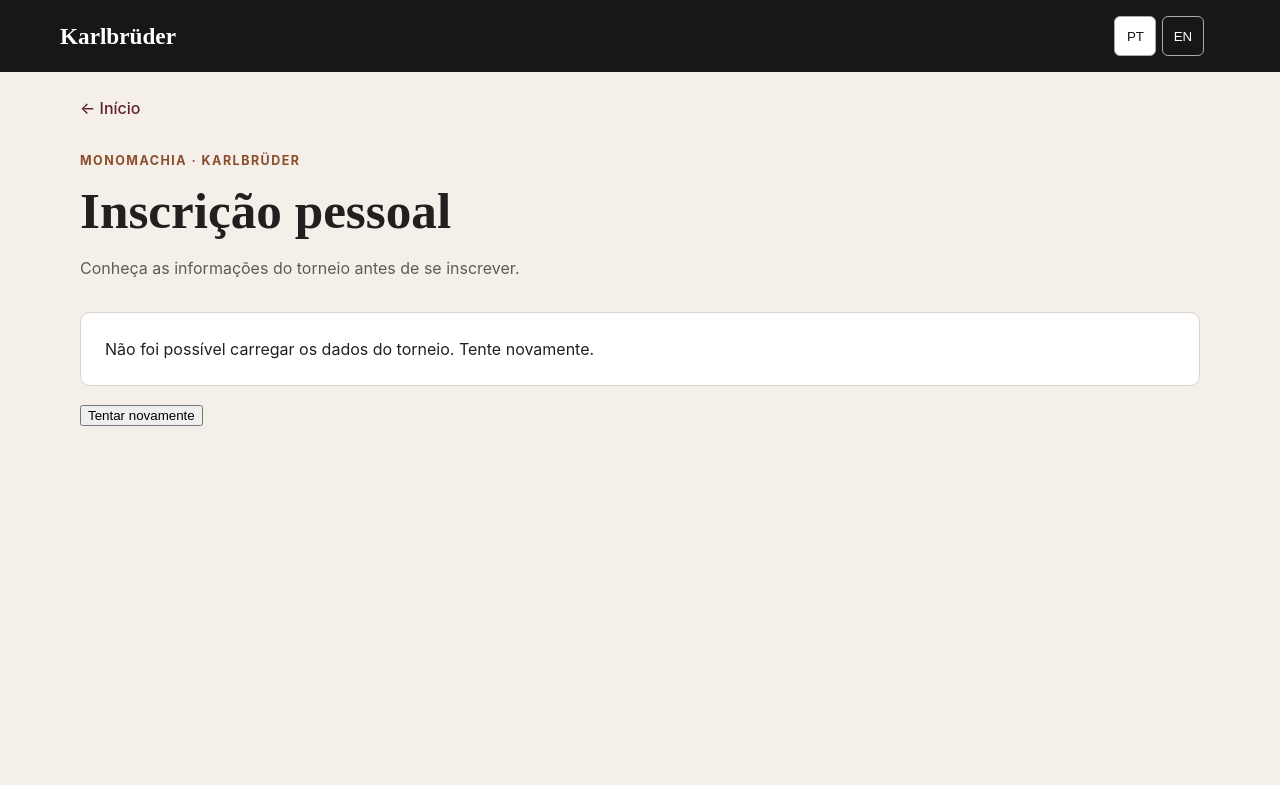
Monomachia registration entry › offers retry after a network error and loads the event on retry
The width and height of the screenshot is (1280, 785).
Expected: the message shows "Tente novamente.", top-left (105, 338), bottom-right (594, 358)
Click the button "Tentar novamente" at (141, 415), box top-left (80, 404), bottom-right (203, 426)
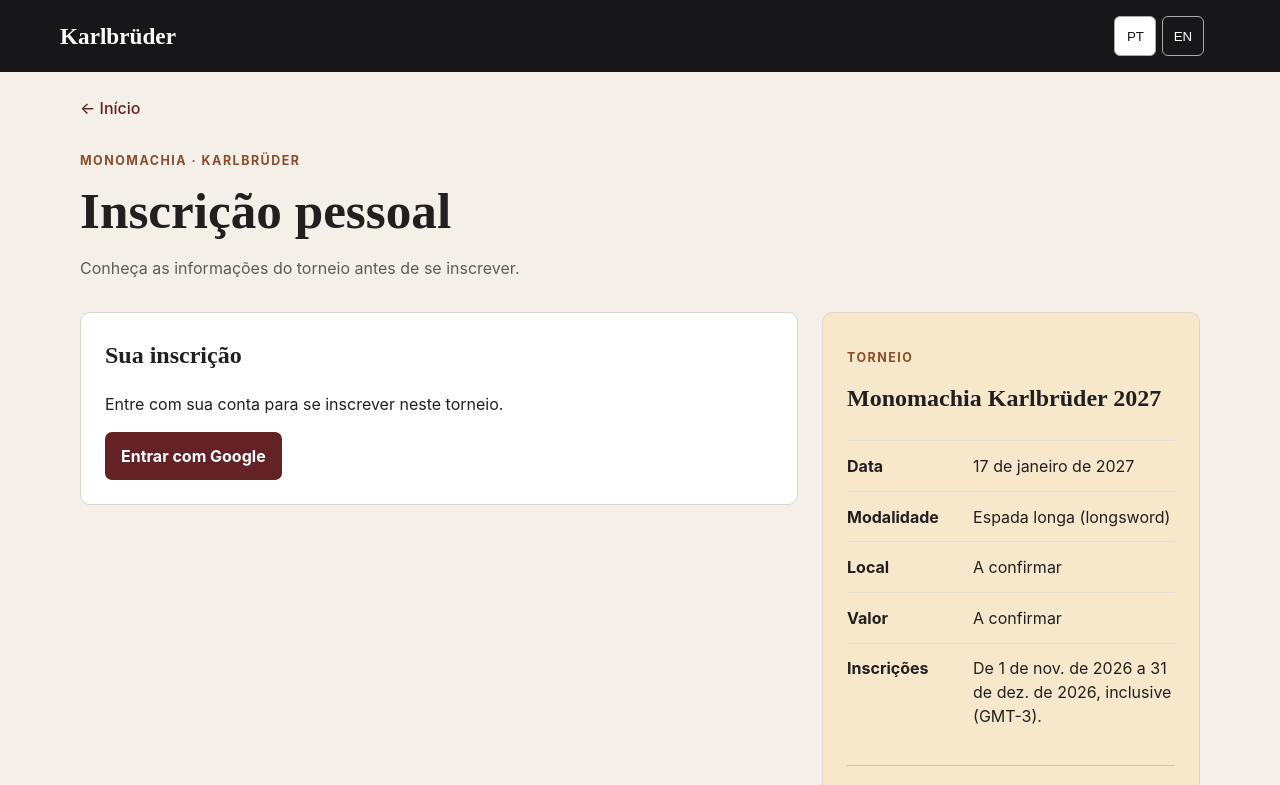
Result: the heading "Monomachia Karlbrüder 2027" is shown at top-left (847, 380), bottom-right (1175, 416)
